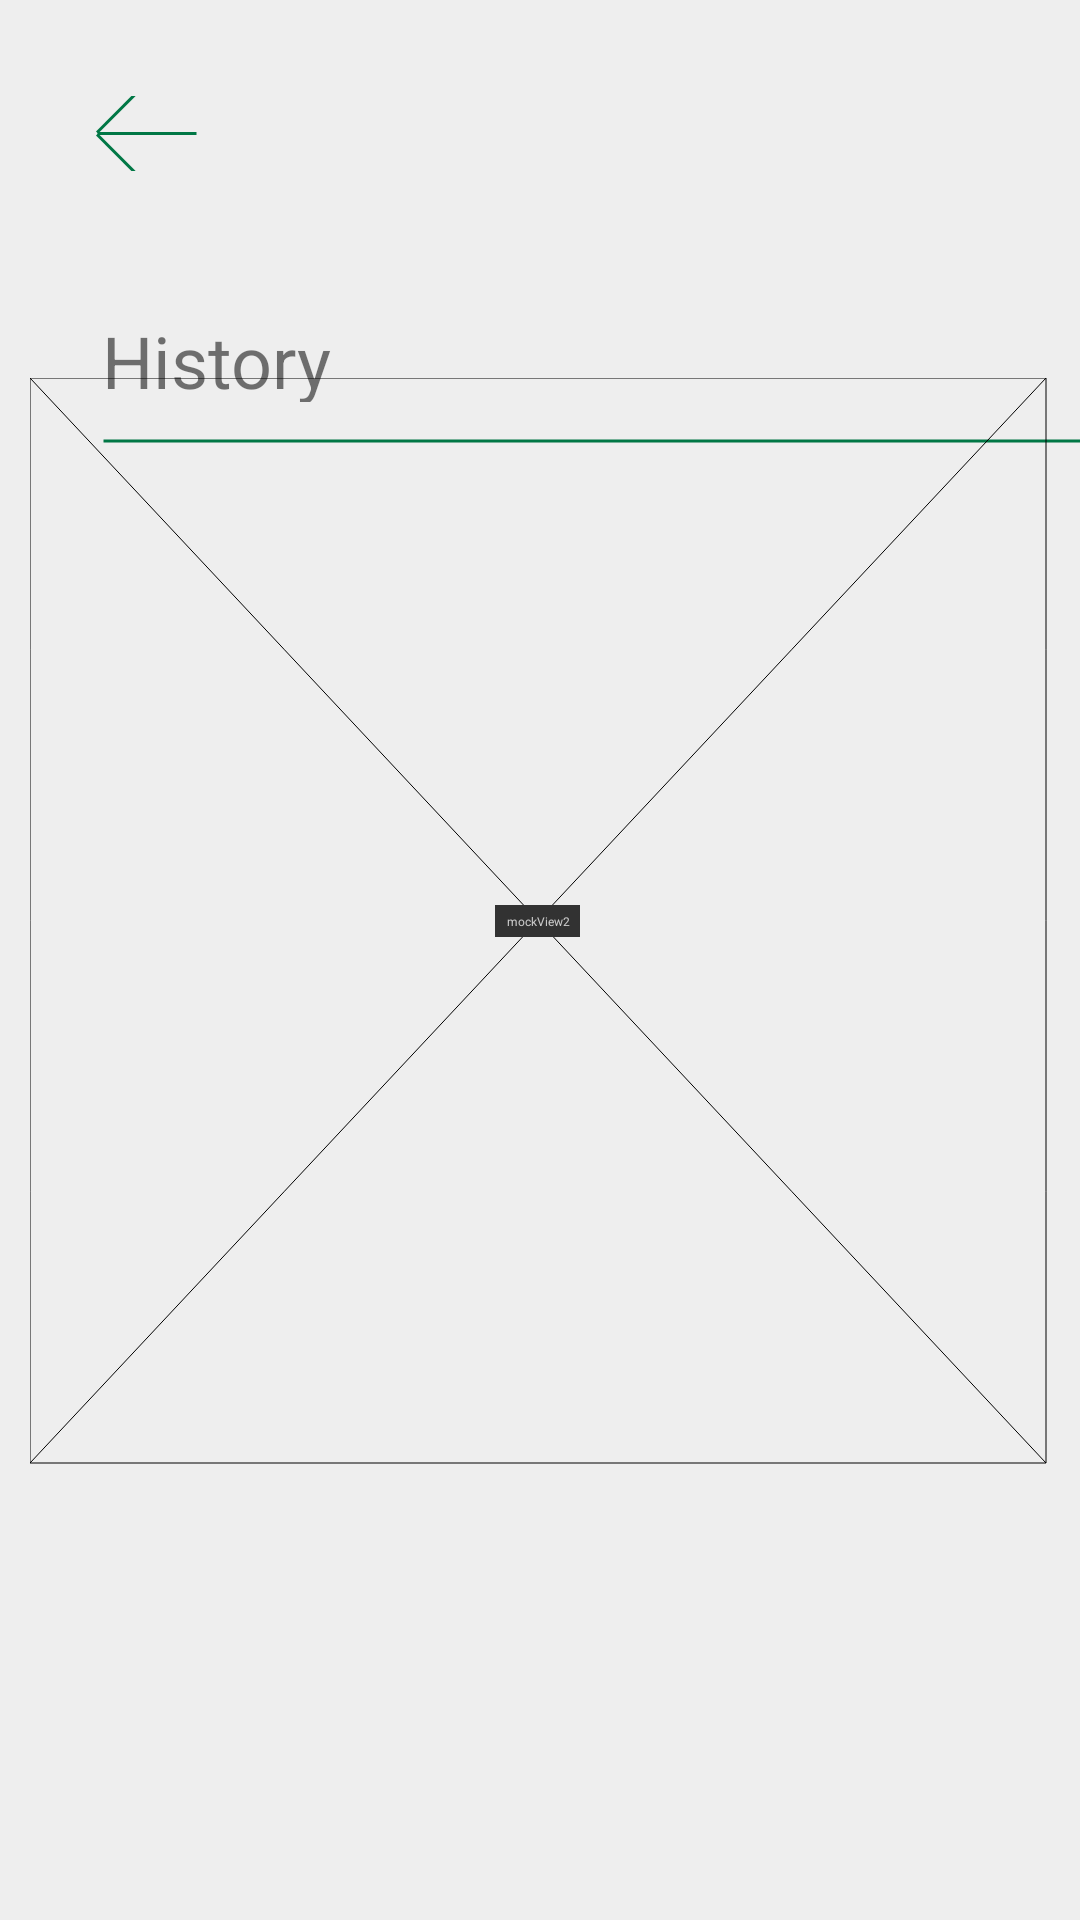

Where to tap for icons on this 1080×1920 app screen, as (x=x, y=y):
arrow: (x=146, y=133)
